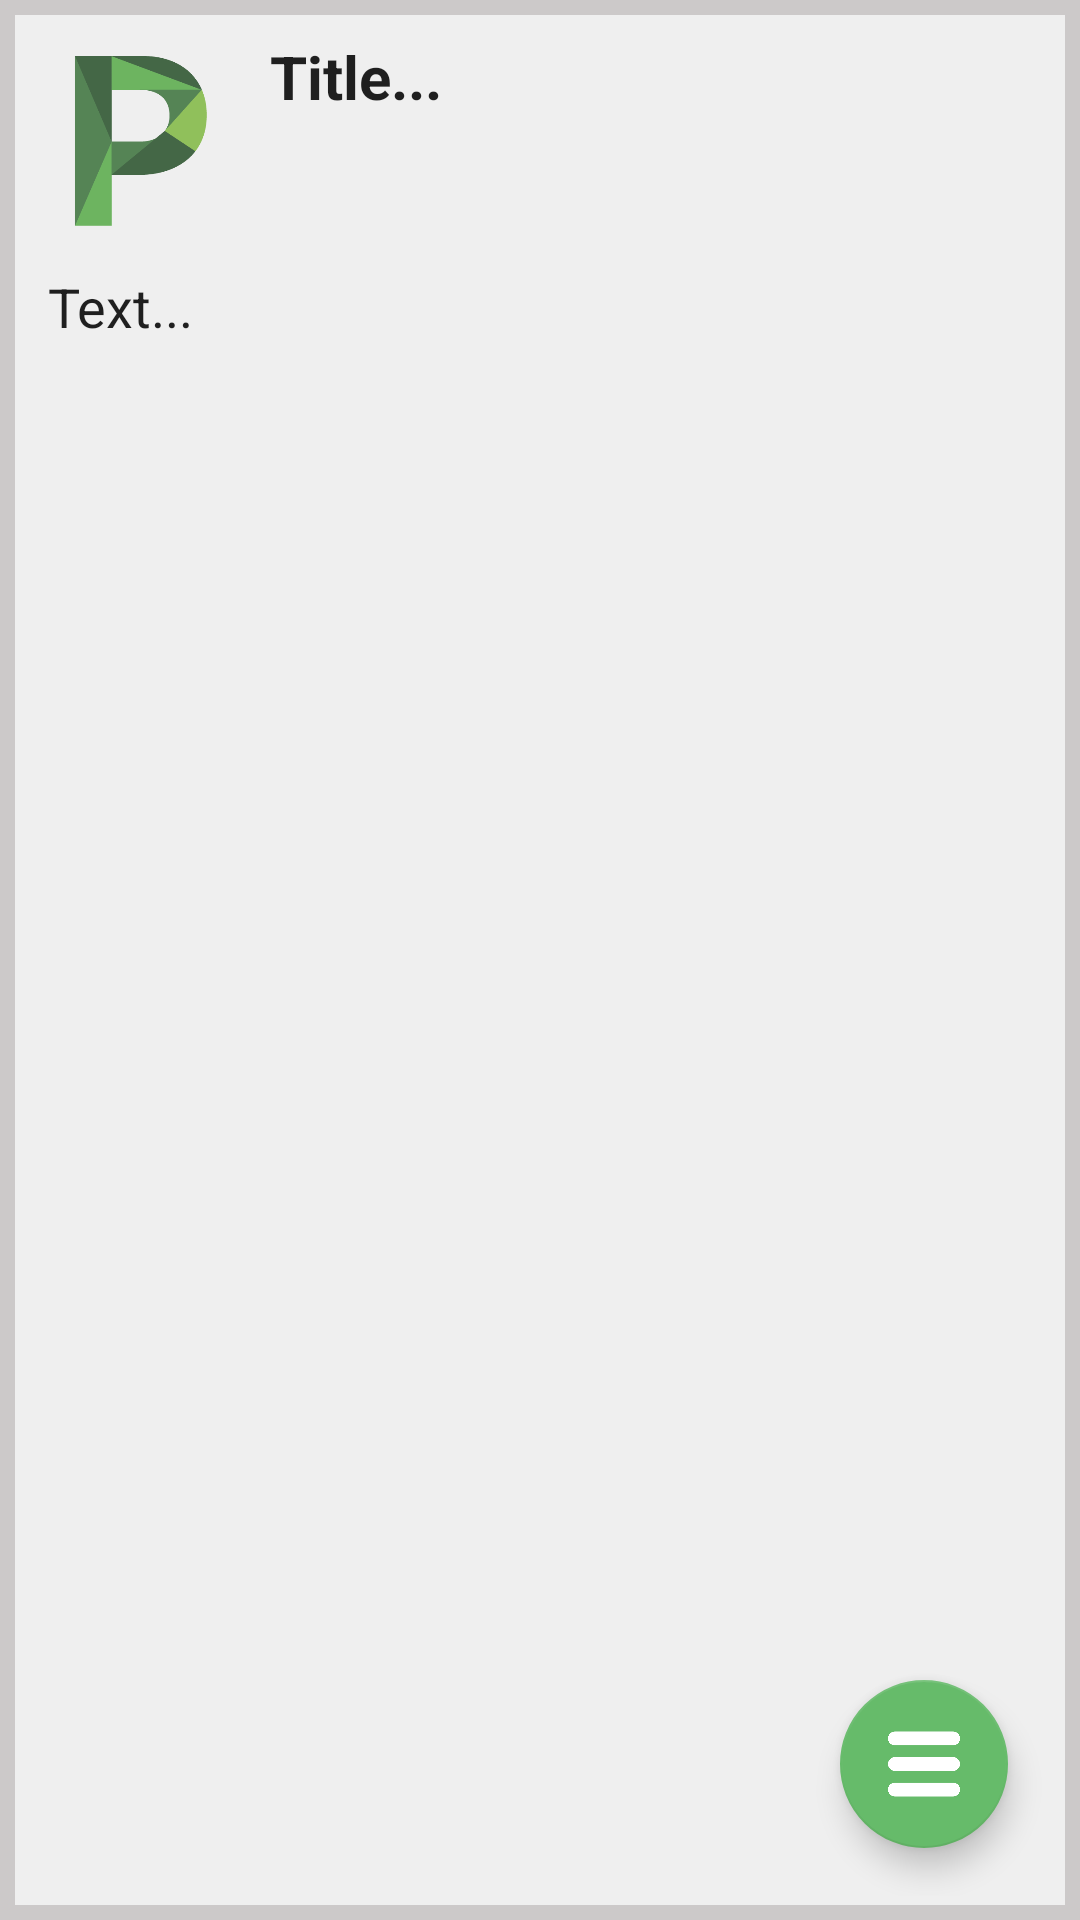

Icon click points for this 1080*1920 phone screenshot, format (x,y):
note detail menu: (924,1764)
